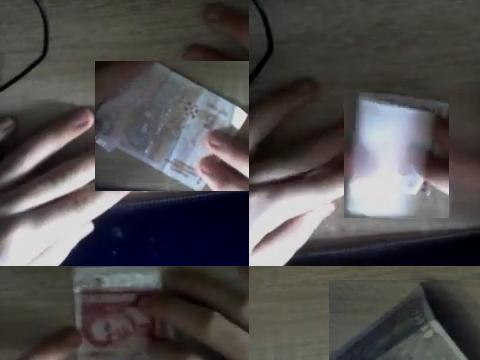10leva: (330, 280, 480, 360)
5leva: (95, 61, 249, 191), (344, 90, 449, 218), (79, 289, 154, 359)
